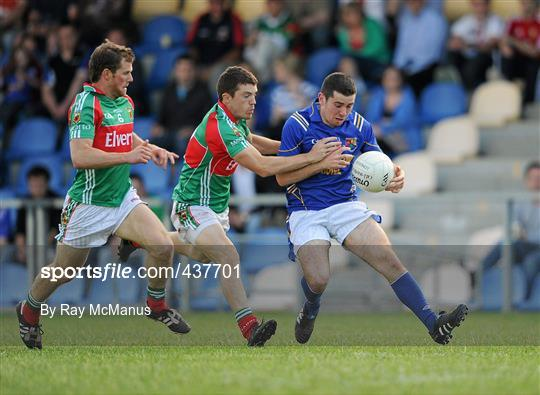ball: (346, 146, 392, 192)
player: (273, 58, 437, 341), (56, 40, 183, 346), (173, 60, 273, 337)
